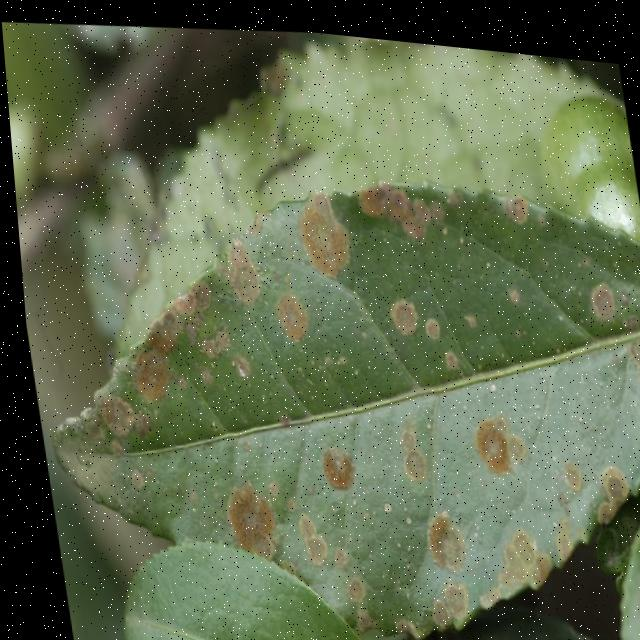Tea algae leaf spot: (98, 130, 640, 604)
